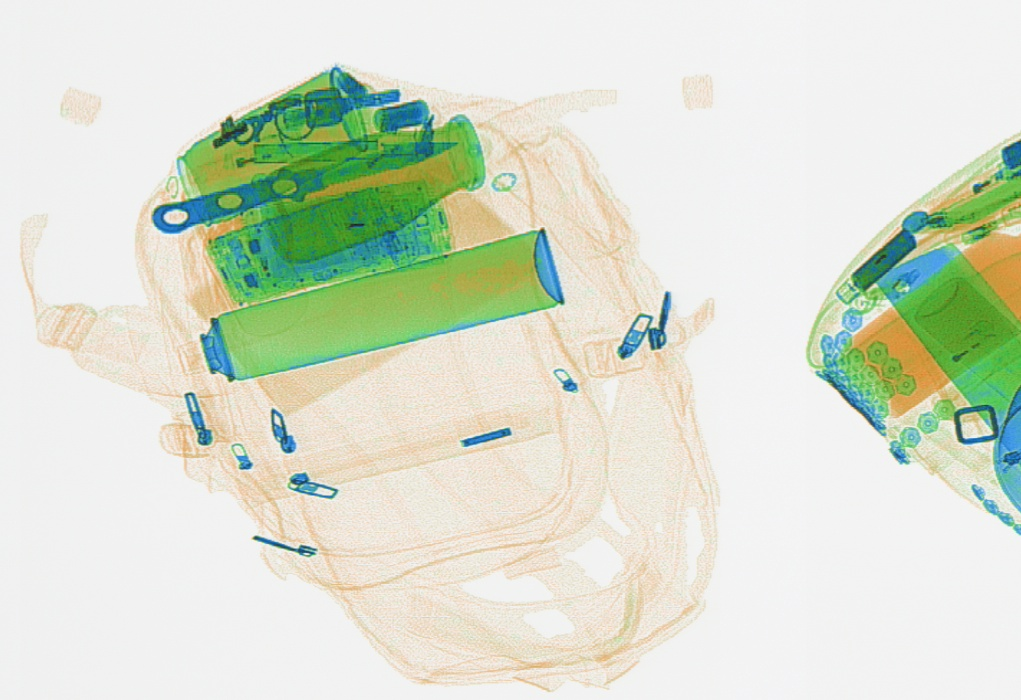knife: (874, 237, 1017, 456), (150, 138, 459, 236)
lighter: (916, 156, 1017, 219)
pressure: (194, 223, 565, 385)
